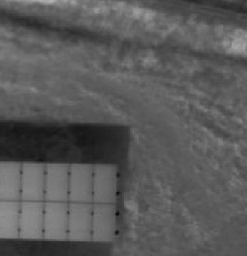solar: (17, 161, 48, 202), (40, 161, 71, 202), (65, 162, 96, 203), (89, 162, 120, 203), (88, 201, 119, 242), (63, 201, 94, 242), (40, 200, 71, 241), (15, 200, 46, 241), (1, 161, 24, 201), (1, 200, 24, 240)
